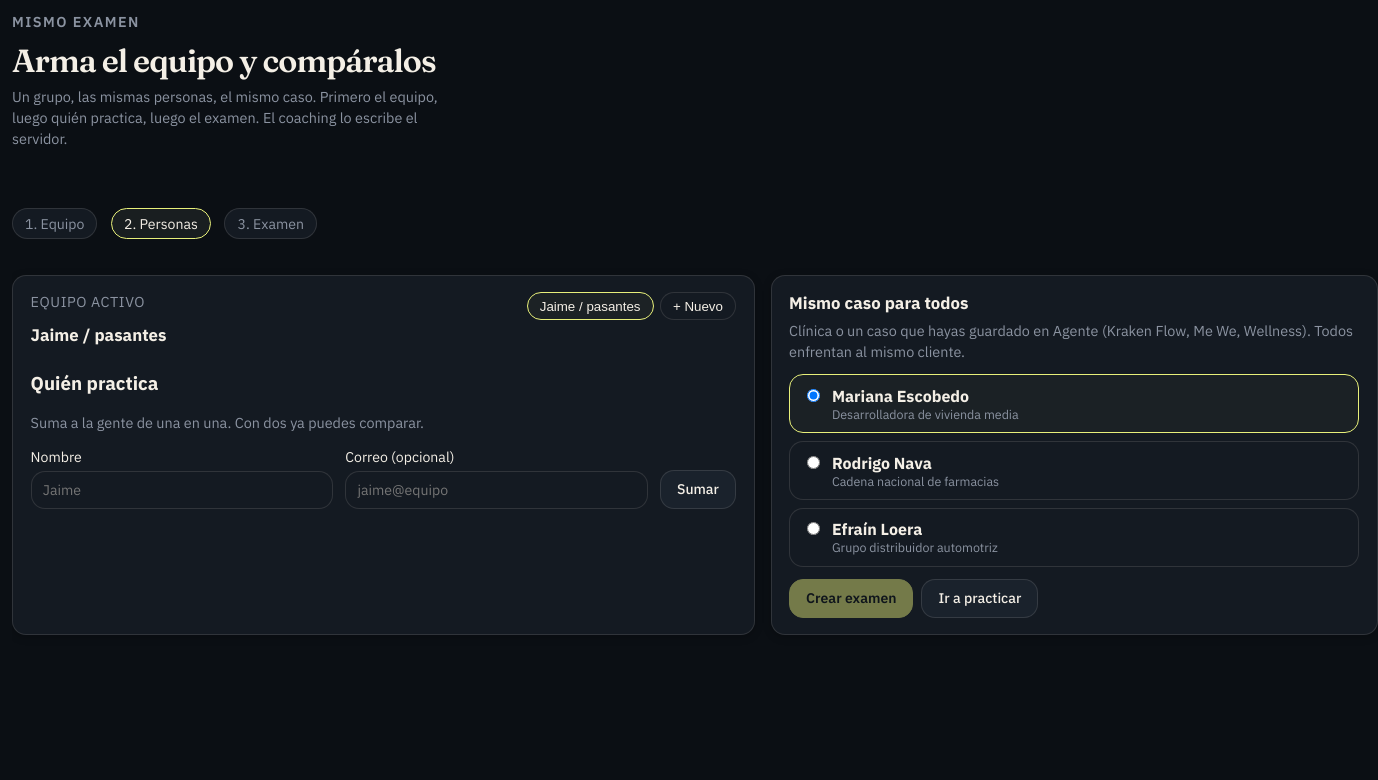
Test: TeamCompareScreen › adds a person as a chip after the team exists
Expected: the heading "Jaime / pasantes" is shown, [31, 324, 166, 346]
Click the button "Sumar": click(698, 490) [660, 470, 736, 509]
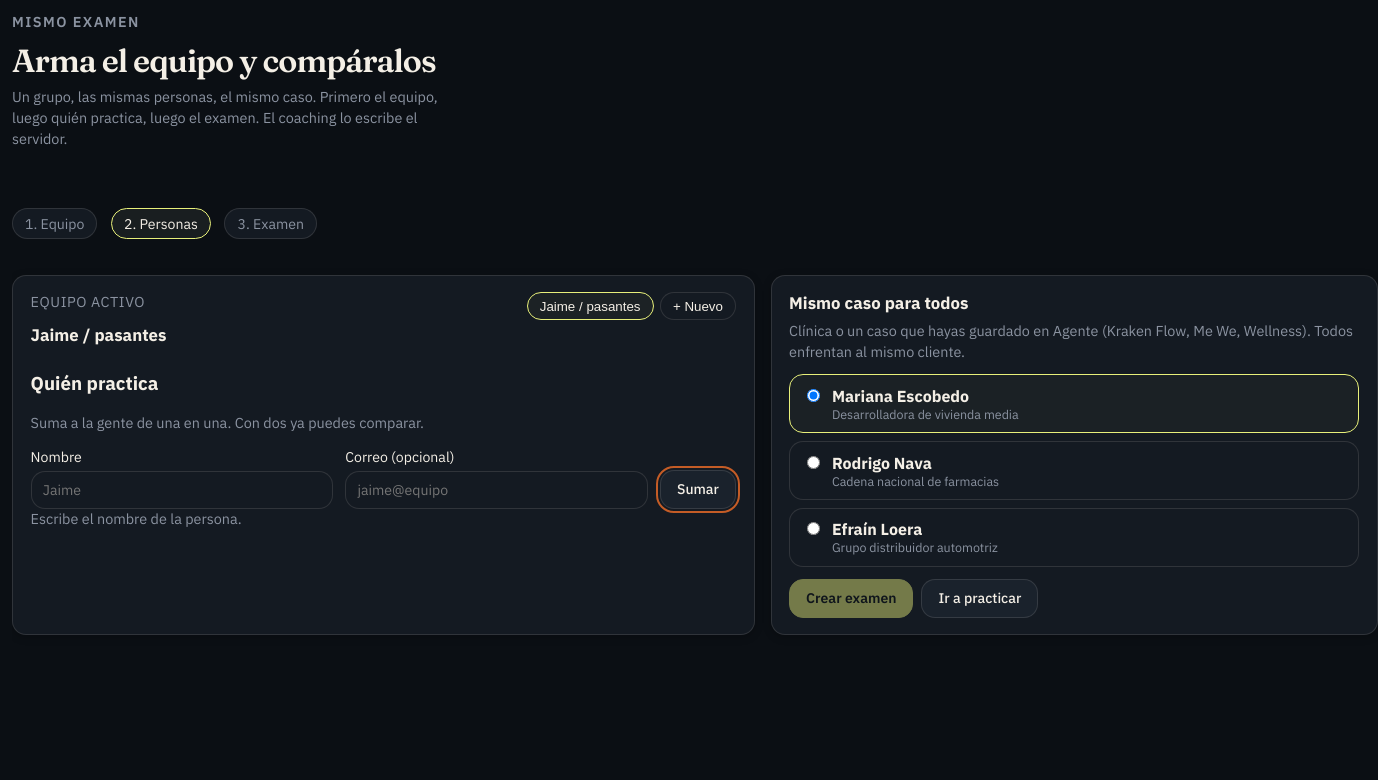
Result: the message "Escribe el nombre de la persona." is shown at [31, 509, 242, 528]
In the field with placeholder "Jaime": (182, 490) [31, 472, 333, 509], type "Ana"
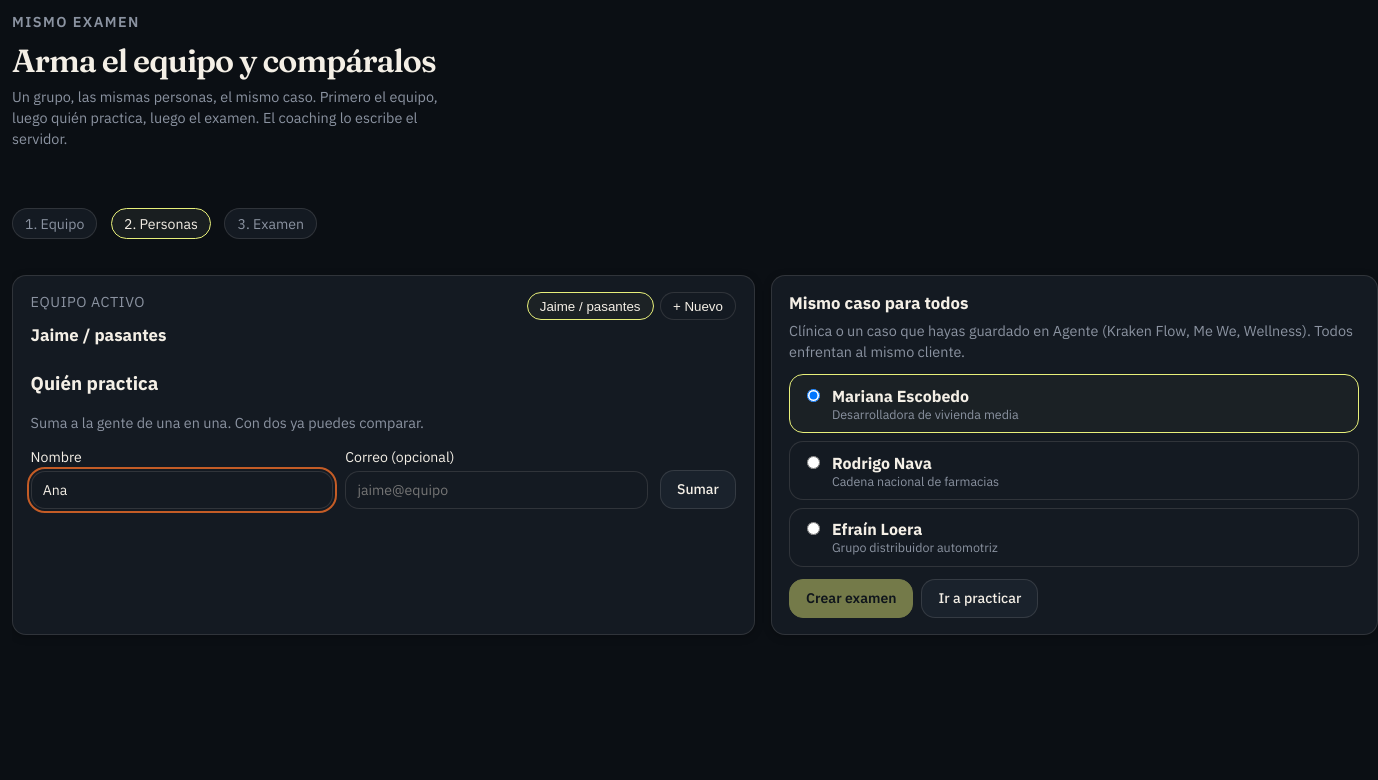
In the field with placeholder "jaime@equipo": (497, 490) [345, 472, 648, 509], type "ana@equipo.com"
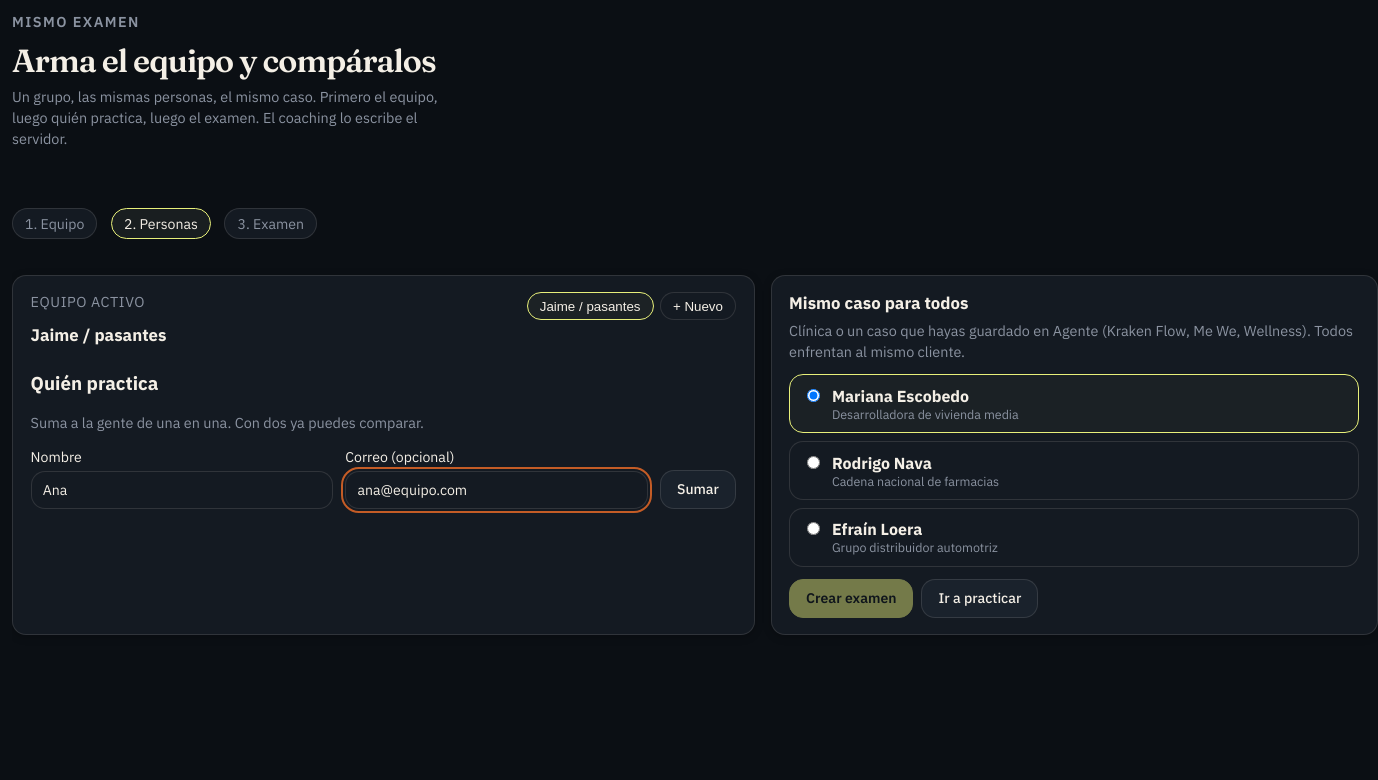
Click the button "Sumar": click(698, 490) [660, 470, 736, 509]
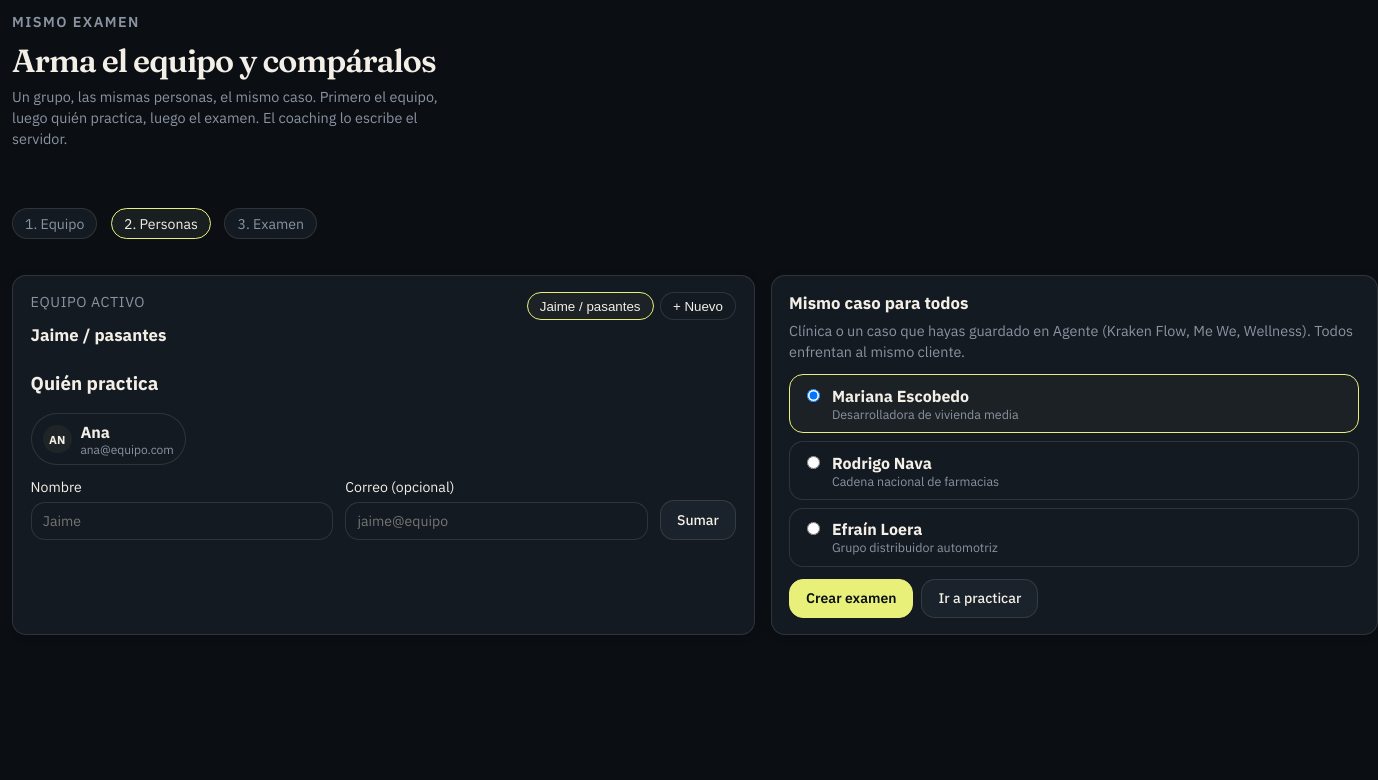
Result: the text "ana@equipo.com" is shown at [80, 442, 174, 457]
